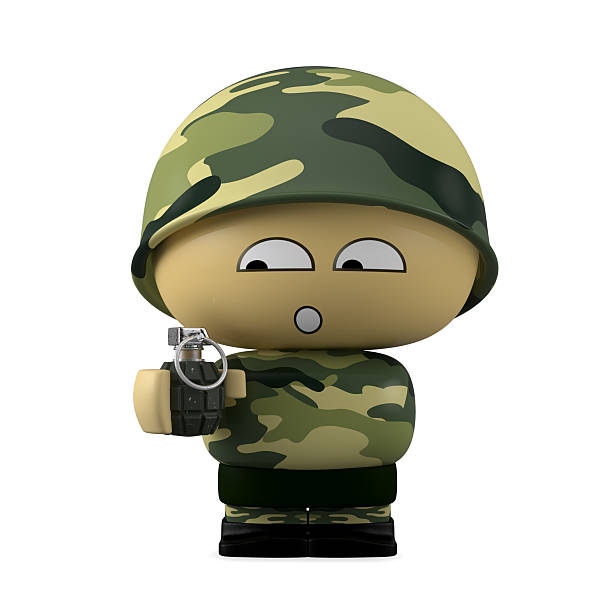e1: (164, 325, 223, 431)
